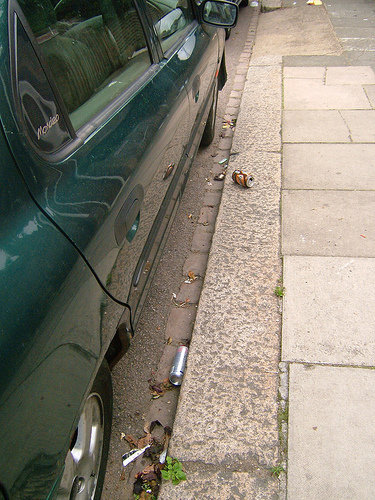litter: (168, 344, 188, 387), (119, 442, 152, 467), (232, 168, 254, 188), (213, 172, 227, 180), (308, 0, 322, 7), (250, 0, 259, 8)
